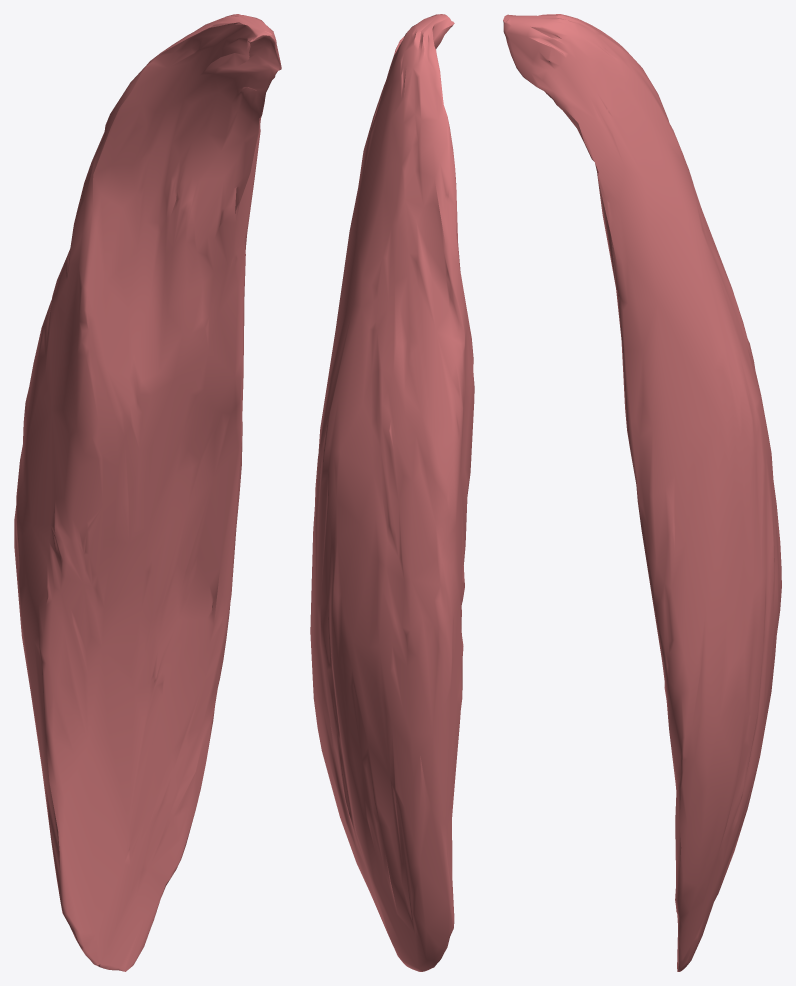
The picture shows the model from 3 angles, left to right: view 1: azimuth 30°, elevation 25°; view 2: azimuth 150°, elevation 25°; view 3: azimuth 270°, elevation 25°; orthographic projection. The views are drawn at different scales.
Visible parts, largest first — view 1: FJ1394M; view 2: FJ1394M; view 3: FJ1394M.
Boxes of the visible parts, bbox=[...] form: FJ1394M: bbox=[14, 14, 281, 971]; FJ1394M: bbox=[310, 14, 474, 971]; FJ1394M: bbox=[503, 14, 781, 971].
Size of the model in its own units: 0.0555 by 0.2889 by 0.0745.
